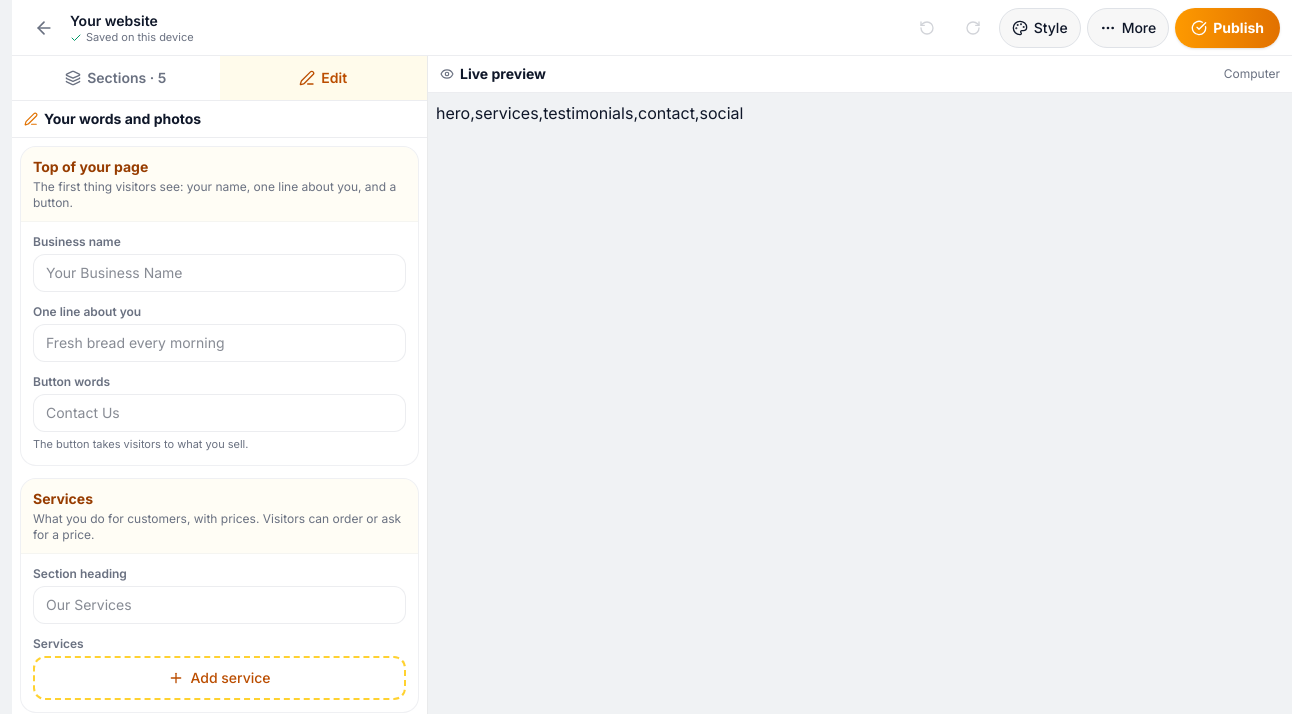
it: Studio layouts › on a tablet: Sections or Edit on the left, the preview always beside it
Expected: the text "hero,services,testimonials,contact,social" is shown, 436,103 -> 743,123
Click the tab "Sections · 5". click: [116, 78]
box: 12,56 -> 220,100
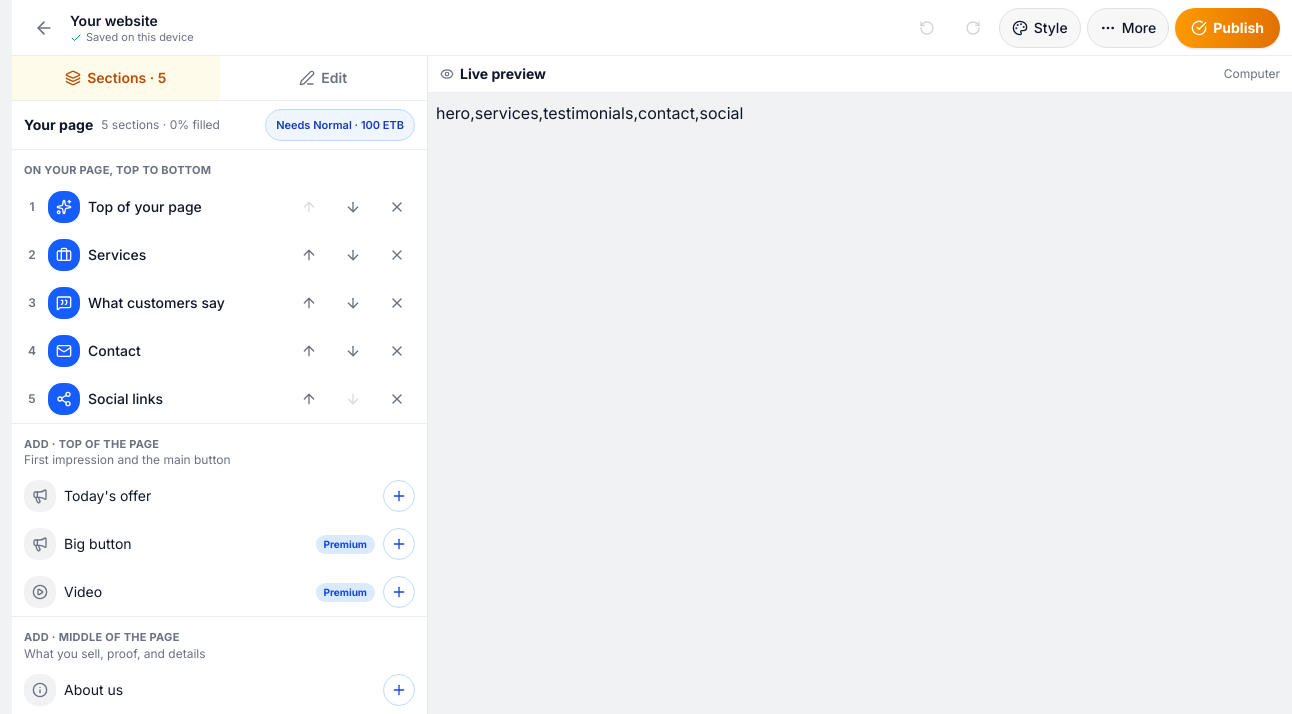
Expected: the text "hero,services,testimonials,contact,social" is shown, 436,103 -> 743,123
Now the element "On your page" is shown, box 12,150 -> 427,424
